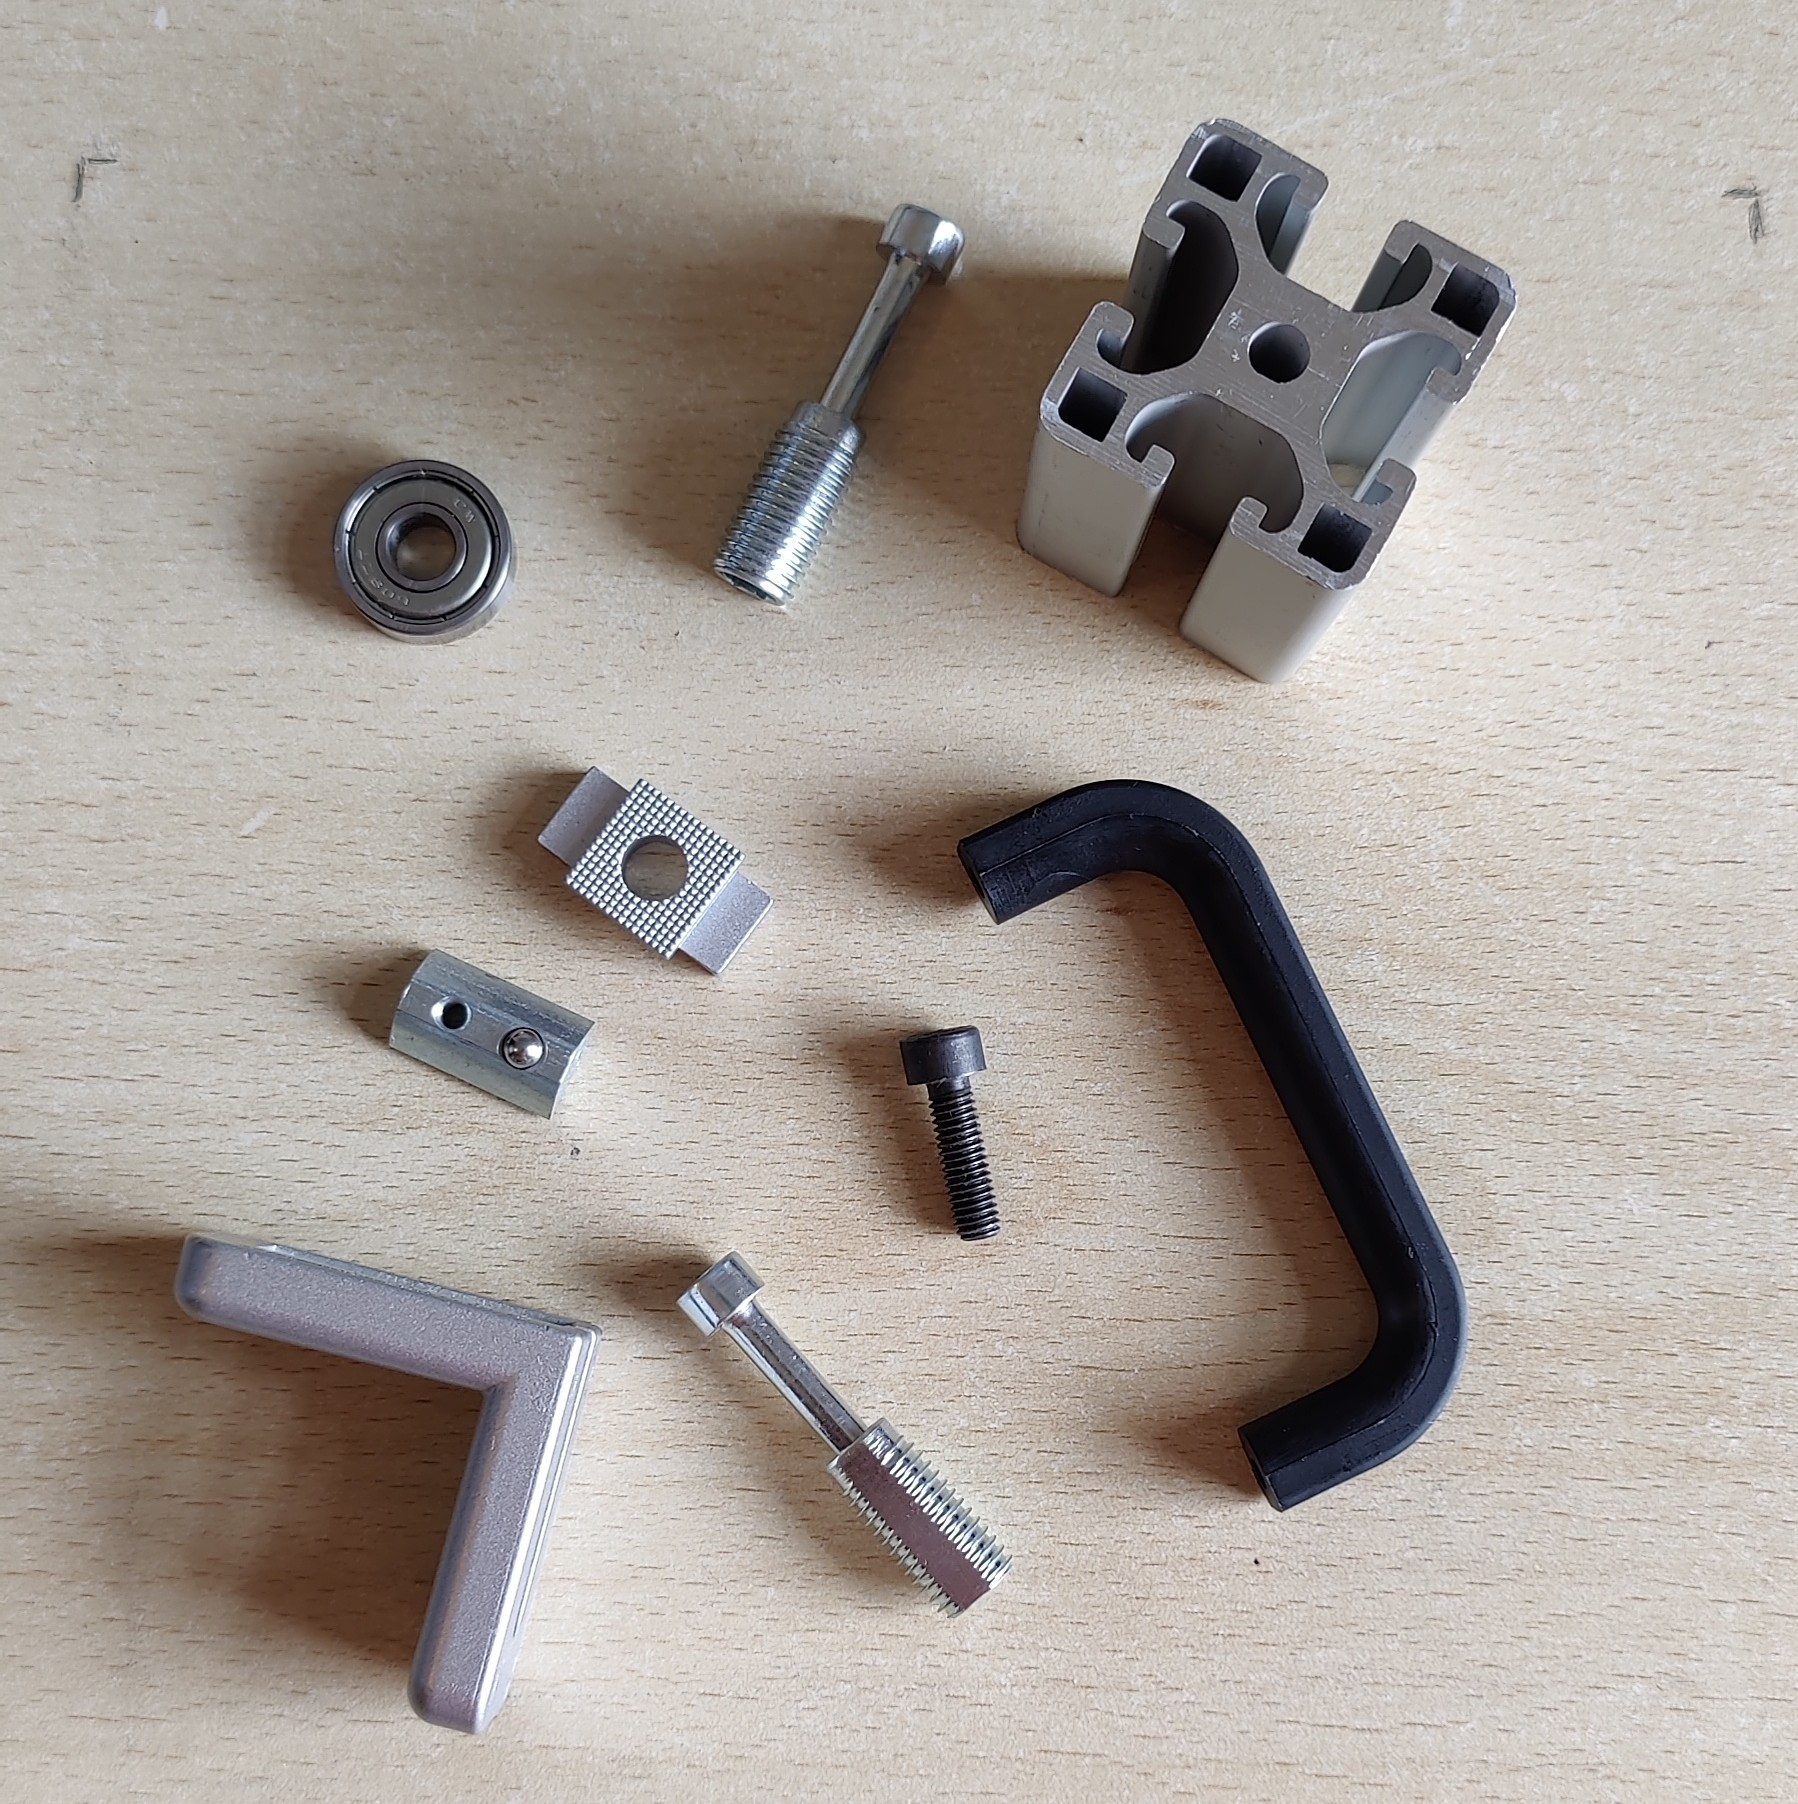Aluminium Extension: (1013, 114, 1521, 688)
Ball Bearing: (329, 456, 519, 649)
Multiwinkel: (170, 1226, 606, 1738)
Pull Handle: (952, 779, 1470, 1514)
Shoulder Socket Head Cap Screw: (670, 1248, 1018, 1623), (710, 201, 967, 607)
Socket Head Cap Screw: (896, 1021, 1003, 1241)
T Nut Square: (533, 762, 779, 974)
T Spring Nut: (385, 948, 599, 1123)
